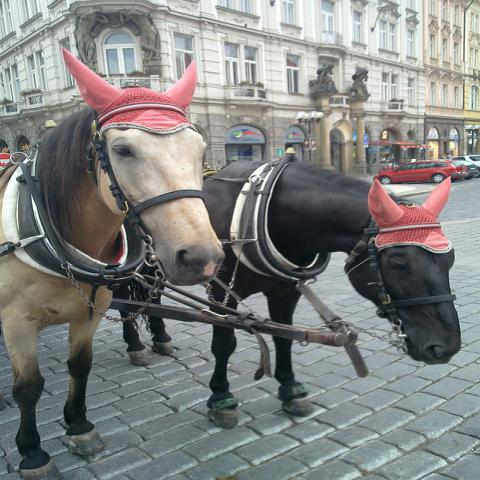car: (373, 159, 467, 185), (449, 154, 479, 178), (456, 160, 479, 179)
